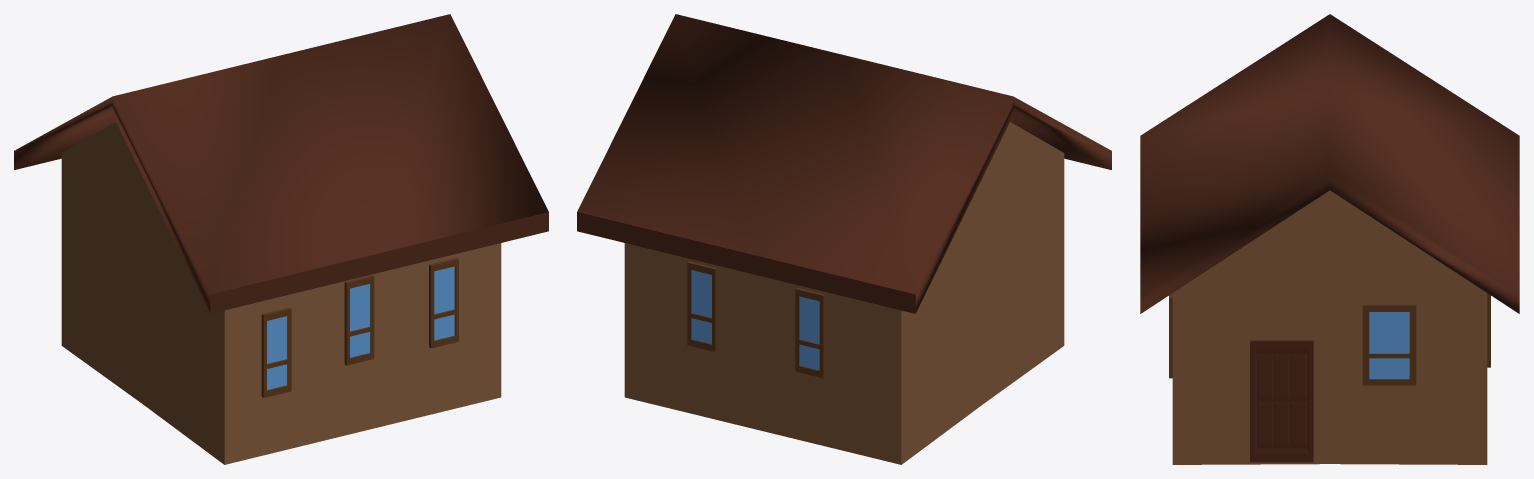
Rendered from Choza1.fbx.
3 renders of one model, left to right at view 1: azimuth 30°, elevation 25°; view 2: azimuth 150°, elevation 25°; view 3: azimuth 270°, elevation 25°, orthographic. The views are drawn at different scales.
Visible parts, largest first — view 1: Choza1; view 2: Choza1; view 3: Choza1.
Part boxes in pixels (x1,y1,x2,y2): Choza1: (14,14,548,464); Choza1: (577,14,1111,464); Choza1: (1140,14,1519,464).
Bounding box in the file's own units: 243 × 217 × 244.
